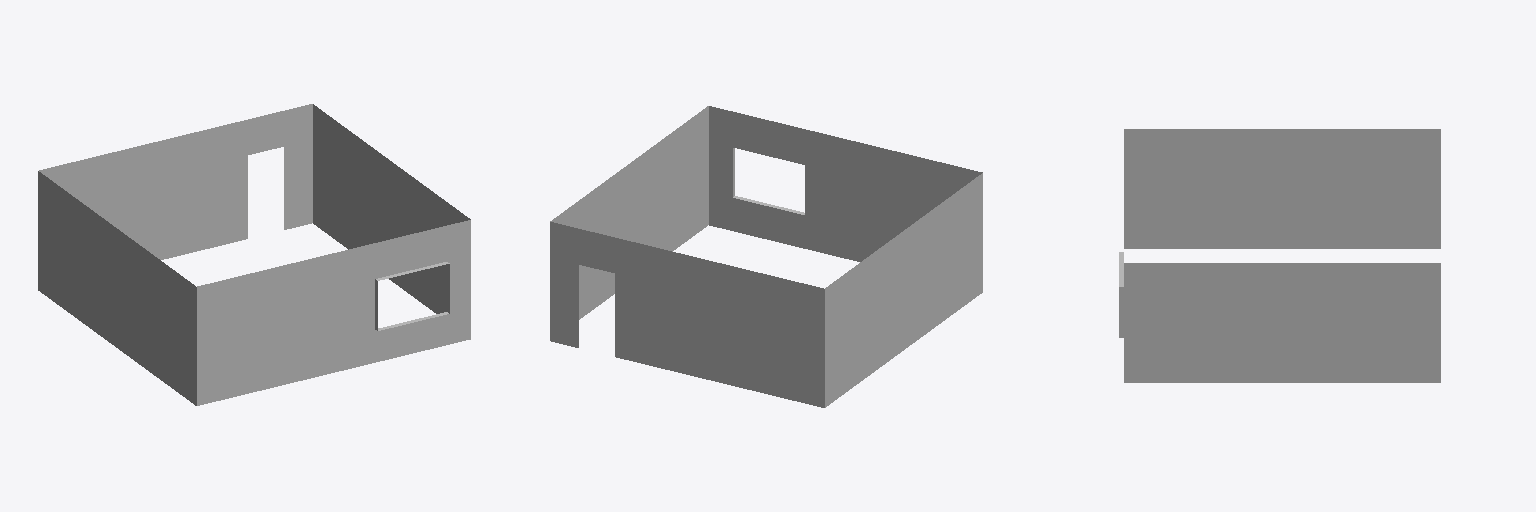
Rendered from walls.obj.
3 views of the same model, side by side, from view 1: azimuth 30°, elevation 25°; view 2: azimuth 150°, elevation 25°; view 3: azimuth 270°, elevation 25° (orthographic).
Visible parts, largest first — view 1: walls; view 2: walls; view 3: walls.
Boxes of the visible parts, box(x1,y1,x2,y2) form: walls: box(38, 104, 470, 405); walls: box(550, 106, 982, 407); walls: box(1119, 129, 1440, 382).
Size of the model in its own units: 12 by 5 by 12.21.